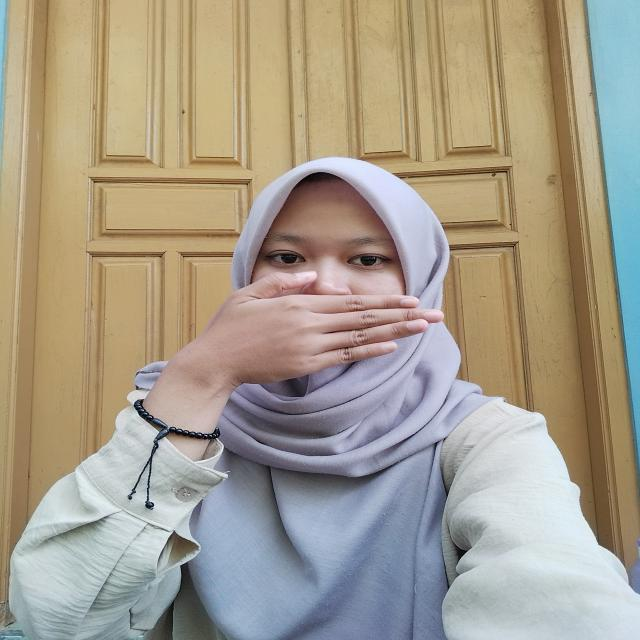buruk: (140, 266, 448, 416)
